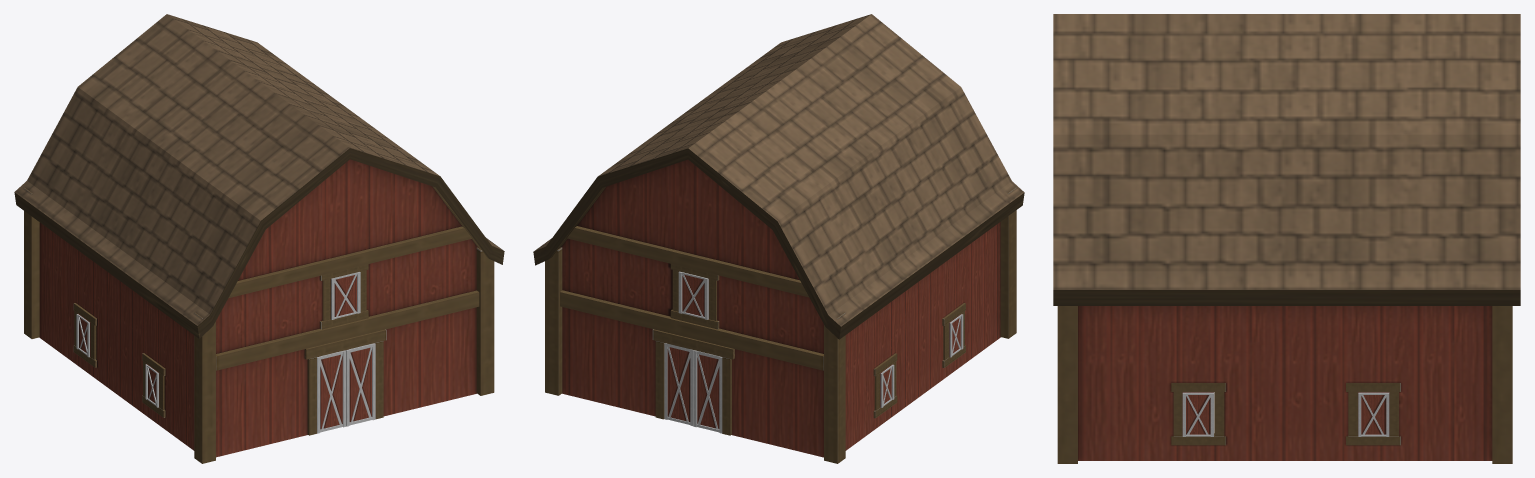
Rendered from Barn_a.fbx.
The picture shows the model from 3 angles, left to right: view 1: azimuth 30°, elevation 25°; view 2: azimuth 150°, elevation 25°; view 3: azimuth 270°, elevation 25°; orthographic projection. The views are drawn at different scales.
Parts seen in each view (by area): view 1: Barn_a, Barn_a_001, Barn_a_002, Barn_a_003, Barn_a_006, Barn_a_007; view 2: Barn_a, Barn_a_008, Barn_a_009, Barn_a_010, Barn_a_007, Barn_a_006; view 3: Barn_a, Barn_a_005, Barn_a_004.
Part boxes in pixels (left/top/right/bottom): Barn_a: left=14, top=14, right=504, bottom=463; Barn_a_001: left=345, top=343, right=375, bottom=426; Barn_a_002: left=317, top=350, right=346, bottom=433; Barn_a_003: left=330, top=272, right=360, bottom=319; Barn_a_006: left=76, top=313, right=90, bottom=357; Barn_a_007: left=145, top=364, right=159, bottom=407; Barn_a: left=533, top=14, right=1024, bottom=463; Barn_a_008: left=693, top=350, right=722, bottom=433; Barn_a_009: left=664, top=343, right=693, bottom=425; Barn_a_010: left=678, top=271, right=708, bottom=319; Barn_a_007: left=949, top=314, right=963, bottom=357; Barn_a_006: left=880, top=364, right=894, bottom=407; Barn_a: left=1053, top=14, right=1520, bottom=463; Barn_a_005: left=1358, top=392, right=1389, bottom=436; Barn_a_004: left=1182, top=392, right=1213, bottom=436.
Size of the model in its own units: 1323 by 1162 by 1367.
